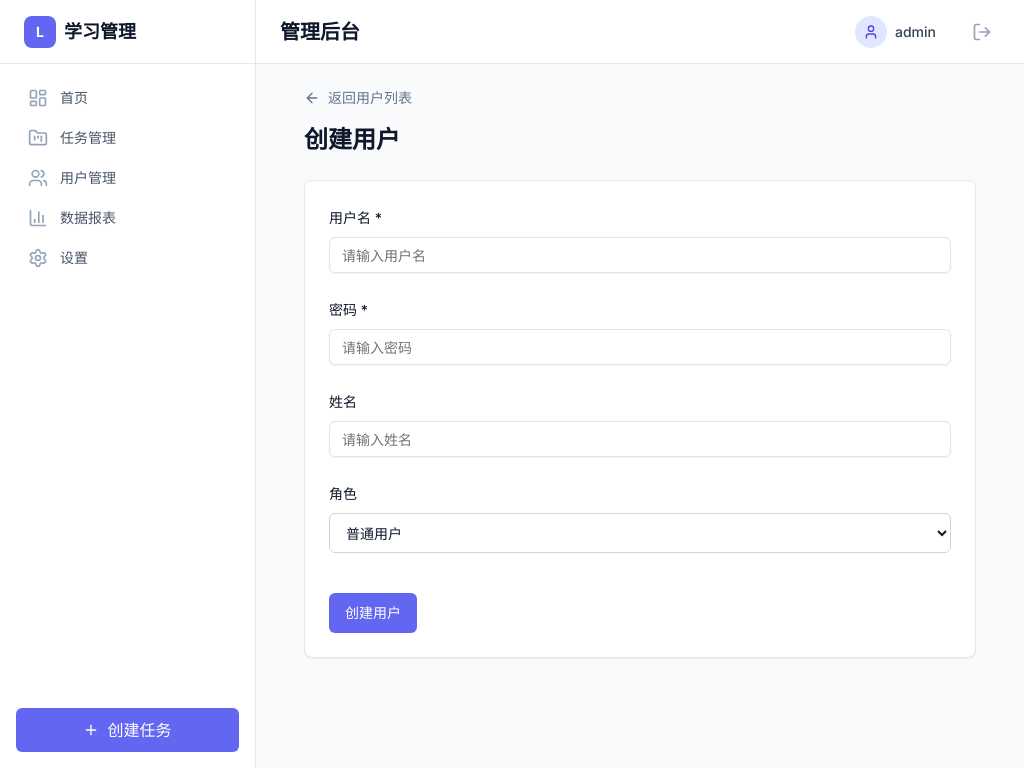
Test: CreateUserPage › disables submit button during loading
This screenshot has width=1024, height=768.
Type "testuser" into the field with placeholder "请输入用户名" at (640, 255), box x1=329 y1=237 x2=951 y2=273
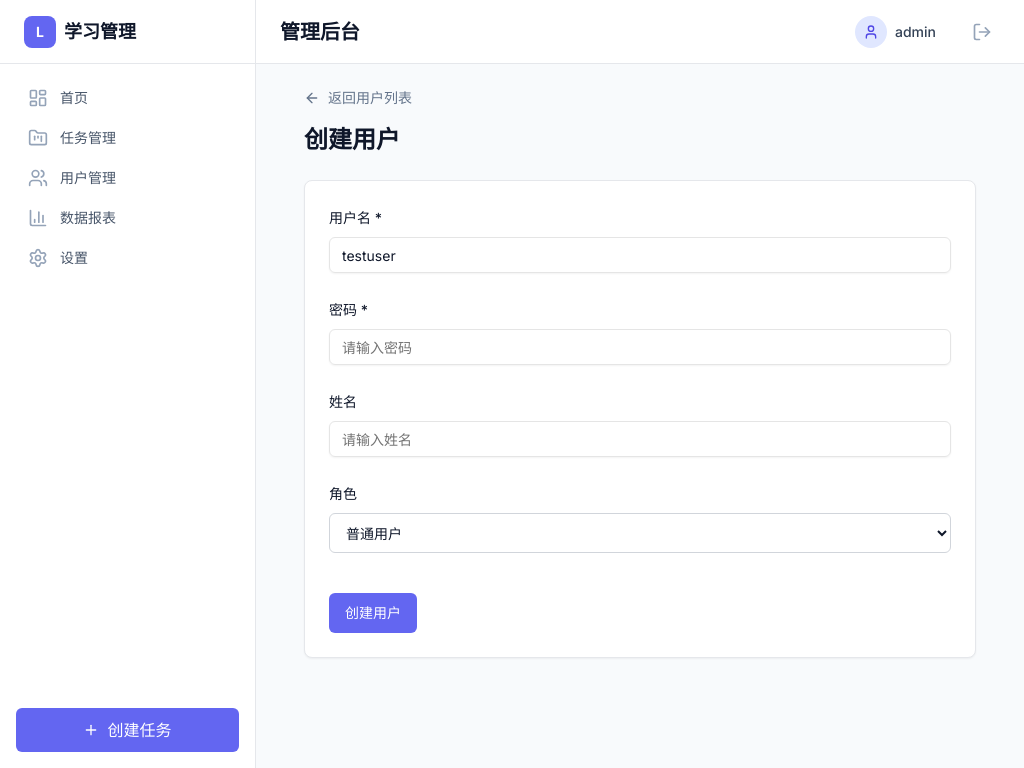
Type "password123" into the password field with placeholder "请输入密码" at (640, 347), box x1=329 y1=329 x2=951 y2=365
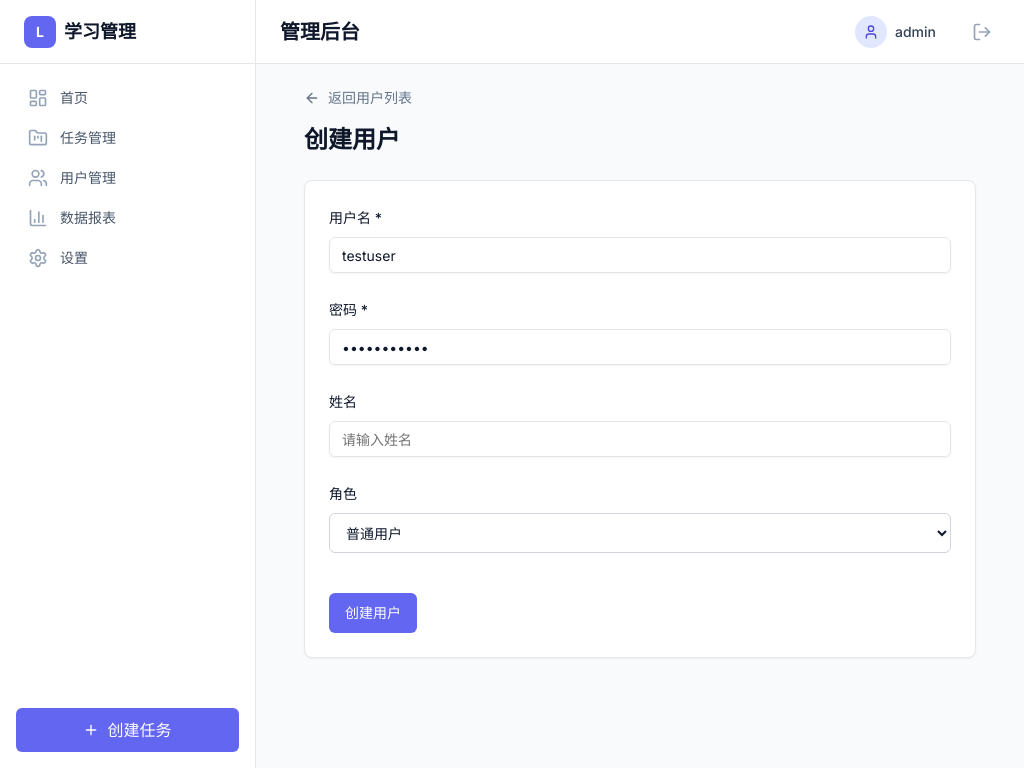
Click the button "创建用户" at (373, 613), box x1=329 y1=593 x2=417 y2=633
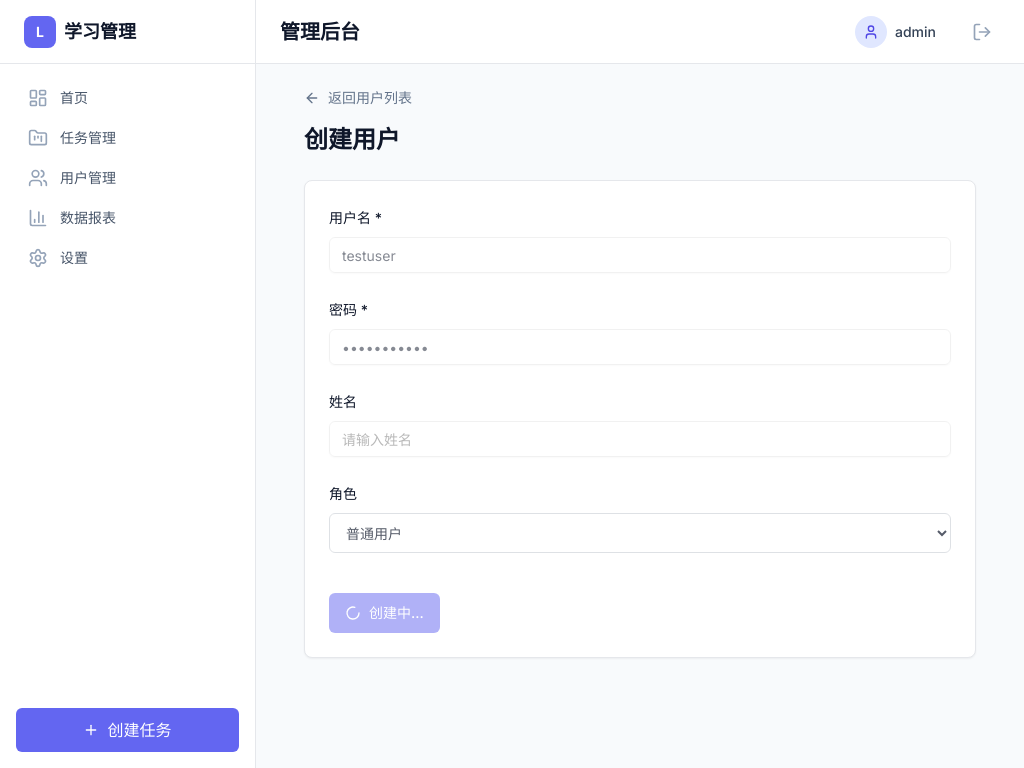
Result: the button named "创建用户" is disabled at x1=329 y1=593 x2=440 y2=633
